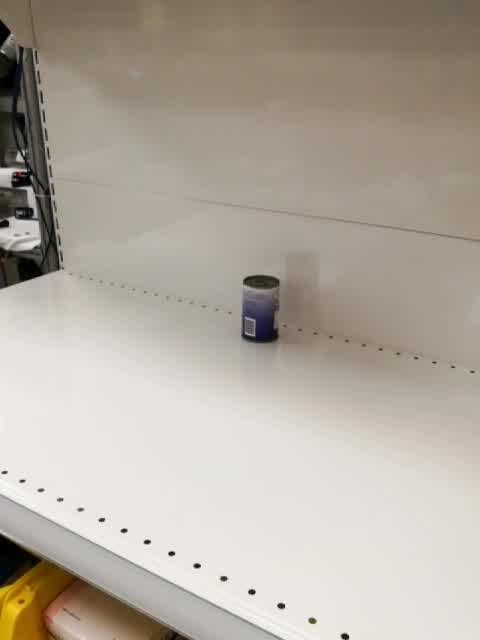sardine: (239, 274, 282, 345)
